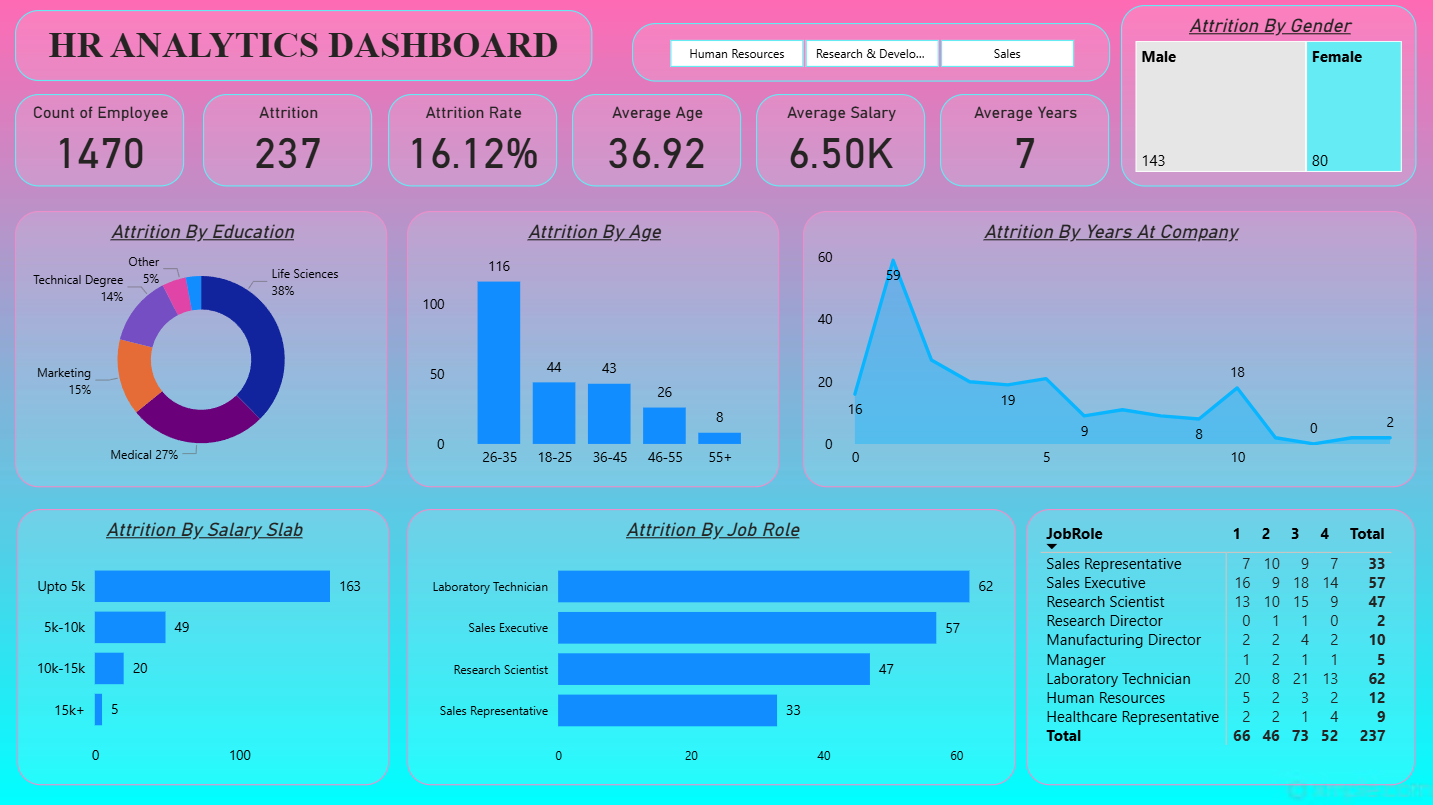

This screenshot's page, from the dashboard's own definition file:
{"tool":"powerbi","page":{"name":"Page 1","canvas":[1280,720],"ordinal":0},"visuals":[{"type":"card","title":"Count of  Employee","fields":{"Values":["CountNonNull(HR_Analytics (2).EmpID)"]},"box":[17.3,88.2,150,81.8],"z":0},{"type":"card","title":"Attrition","fields":{"Values":["Sum(HR_Analytics (2).AttritionCount)"]},"box":[183.6,88.2,150,81.8],"z":1},{"type":"card","title":"Attrition Rate","fields":{"Values":["HR_Analytics (2).AttritionRate"]},"box":[347.3,88.2,150,81.8],"z":2},{"type":"card","title":"Average Age","fields":{"Values":["Avg(HR_Analytics (2).Age)"]},"box":[510.9,88.2,150,81.8],"z":3},{"type":"card","title":"Average Years","fields":{"Values":["Avg(HR_Analytics (2).YearsAtCompany)"]},"box":[837.3,88.2,150,81.8],"z":4},{"type":"card","title":"Average Salary","fields":{"Values":["Avg(HR_Analytics (2).MonthlyIncome)"]},"box":[673.6,88.2,150,81.8],"z":5},{"type":"donutChart","title":"Attrition By Education","fields":{"Category":["HR_Analytics (2).EducationField"],"Y":["Sum(HR_Analytics (2).AttritionCount)"]},"box":[17.3,191.8,330,244.5],"z":6},{"type":"columnChart","title":"Attrition By Age","fields":{"Category":["HR_Analytics (2).AgeGroup"],"Y":["Sum(HR_Analytics (2).AttritionCount)"]},"box":[364.5,191.8,330,244.5],"z":7},{"type":"pivotTable","fields":{"Rows":["HR_Analytics (2).JobRole"],"Columns":["HR_Analytics (2).JobSatisfaction"],"Values":["Sum(HR_Analytics (2).AttritionCount)"]},"box":[913.6,455.5,345.5,244.5],"z":8},{"type":"barChart","title":"Attrition By Salary Slab","fields":{"Category":["HR_Analytics (2).SalarySlab"],"Y":["Sum(HR_Analytics (2).AttritionCount)"]},"box":[18.2,455.5,330,244.5],"z":9},{"type":"barChart","title":"Attrition By Job Role","fields":{"Y":["Sum(HR_Analytics (2).AttritionCount)"],"Category":["HR_Analytics (2).JobRole"]},"box":[364.5,455.5,540,244.5],"z":10},{"type":"areaChart","title":"Attrition By Years At Company","fields":{"Category":["HR_Analytics (2).YearsAtCompany"],"Y":["Sum(HR_Analytics (2).AttritionCount)"]},"box":[715.5,191.8,543.6,244.5],"z":11},{"type":"treemap","title":"Attrition By Gender","fields":{"Group":["HR_Analytics (2).Gender"],"Values":["Sum(HR_Analytics (2).AttritionCount)"]},"box":[997.3,9.1,261.8,160.9],"z":12},{"type":"slicer","fields":{"Values":["HR_Analytics (2).Department"]},"box":[563.6,24.5,423.6,51.8],"z":13},{"type":"textbox","box":[17.3,13.6,511.8,62.7],"z":14}]}

Visuals, with their boxes in screenshot pixels (x1, y1, x2, y2), scaled from the page's 1280x720 canvas onto the 1433x805 screenshot:
"Count of  Employee" card: 19, 99, 187, 190
"Attrition" card: 206, 99, 373, 190
"Attrition Rate" card: 389, 99, 557, 190
"Average Age" card: 572, 99, 740, 190
"Average Years" card: 937, 99, 1105, 190
"Average Salary" card: 754, 99, 922, 190
"Attrition By Education" donutChart: 19, 214, 389, 488
"Attrition By Age" columnChart: 408, 214, 778, 488
pivotTable - HR_Analytics (2).JobRole x HR_Analytics (2).JobSatisfaction: 1023, 509, 1410, 783
"Attrition By Salary Slab" barChart: 20, 509, 390, 783
"Attrition By Job Role" barChart: 408, 509, 1013, 783
"Attrition By Years At Company" areaChart: 801, 214, 1410, 488
"Attrition By Gender" treemap: 1117, 10, 1410, 190
slicer - HR_Analytics (2).Department: 631, 27, 1105, 85
textbox: 19, 15, 592, 85
